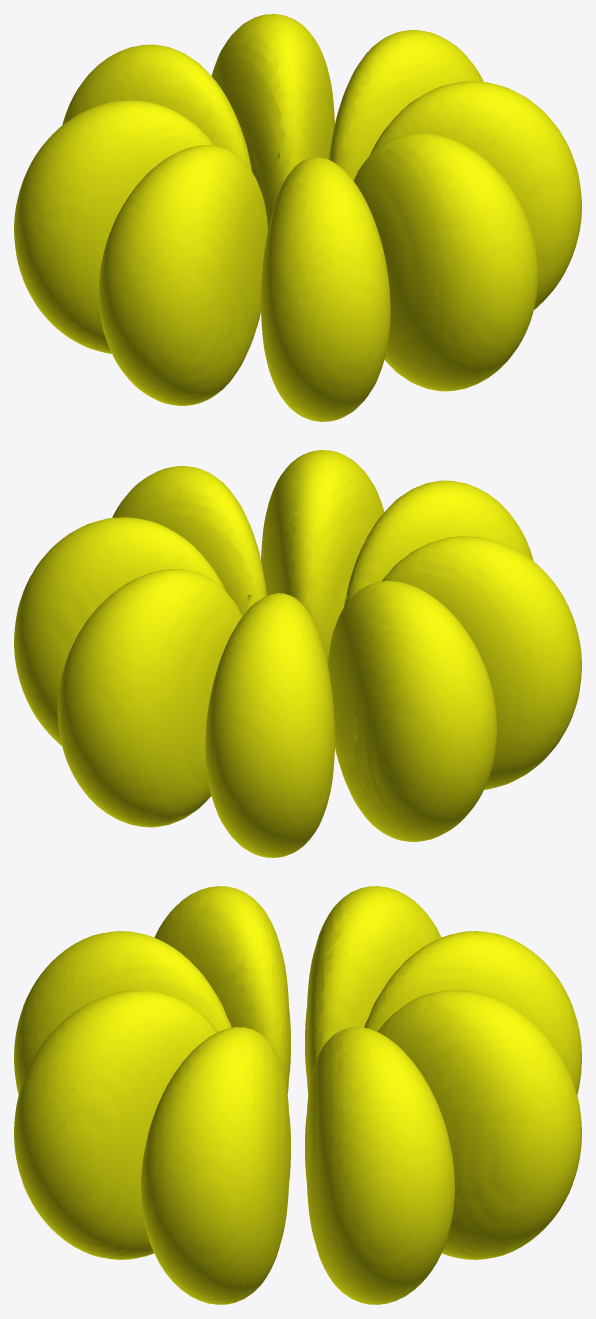
The model's file is orb_n=5_ l=4 _m=-4.fbx.
The picture shows the model from 3 angles, top to bottom: view 1: azimuth 30°, elevation 25°; view 2: azimuth 150°, elevation 25°; view 3: azimuth 270°, elevation 25°; orthographic projection. The views are drawn at different scales.
Parts seen in each view (by area): view 1: orb_n=5_ l=4 _m=-4; view 2: orb_n=5_ l=4 _m=-4; view 3: orb_n=5_ l=4 _m=-4.
Part boxes in pixels (<box>): orb_n=5_ l=4 _m=-4: <box>14,14,581,421</box>; orb_n=5_ l=4 _m=-4: <box>14,450,581,857</box>; orb_n=5_ l=4 _m=-4: <box>14,886,581,1304</box>.
Bounding box in the file's own units: 9334 × 4734 × 9334.
